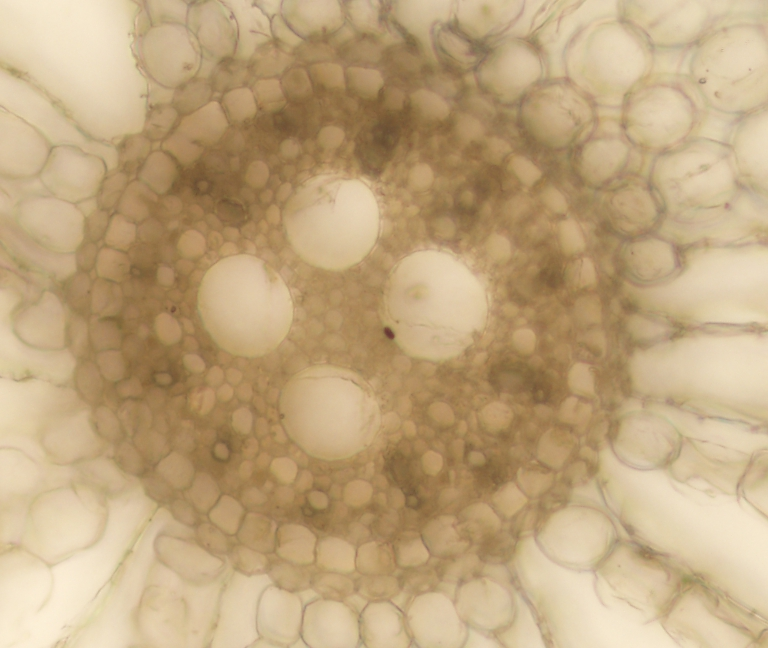lm: (380, 248, 489, 363), (276, 363, 382, 461), (281, 168, 380, 270), (198, 253, 293, 358)
